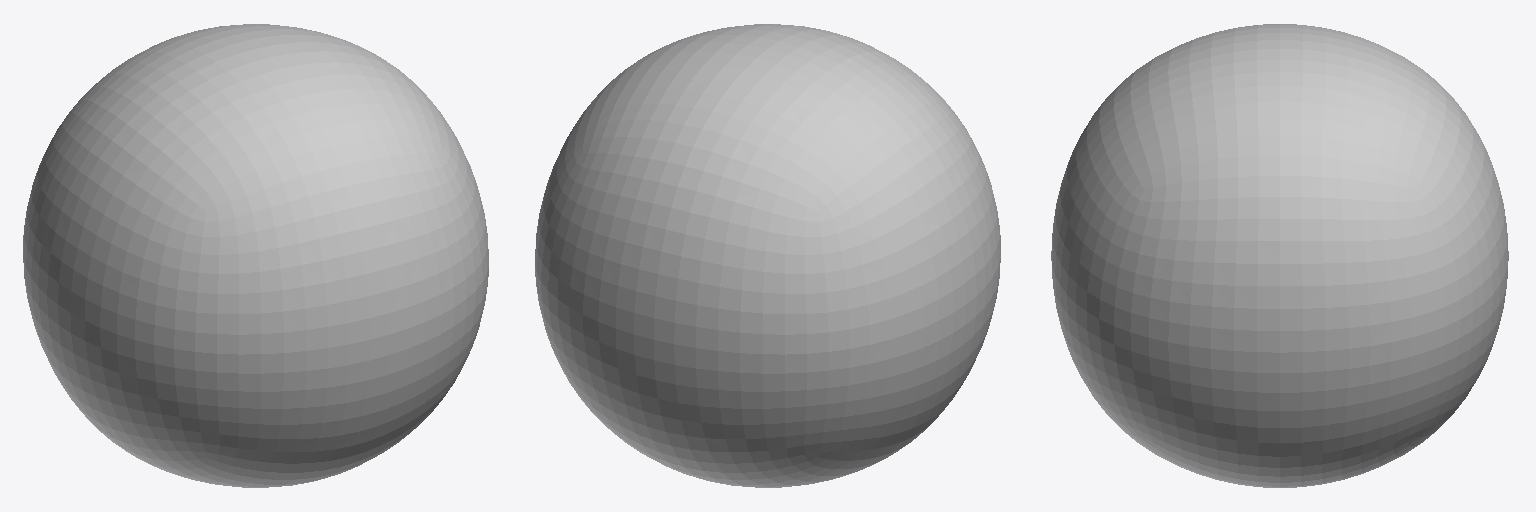
File: esfer.obj
3 renders of one model, left to right at view 1: azimuth 30°, elevation 25°; view 2: azimuth 150°, elevation 25°; view 3: azimuth 270°, elevation 25°, orthographic.
Visible parts, largest first — view 1: Cube_Cube.001; view 2: Cube_Cube.001; view 3: Cube_Cube.001.
Boxes of the visible parts, <box> form: Cube_Cube.001: <box>23,24,488,487</box>; Cube_Cube.001: <box>535,24,1000,487</box>; Cube_Cube.001: <box>1051,24,1508,487</box>.
Size of the model in its own units: 0.8419 by 0.8419 by 0.8419.